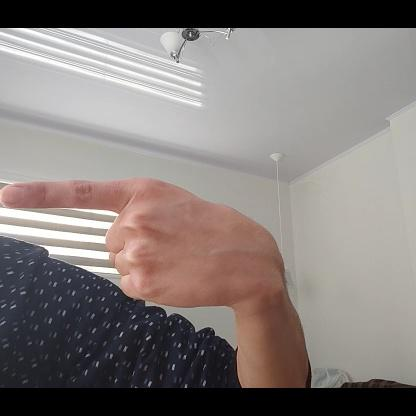G: (0, 182, 283, 307)
